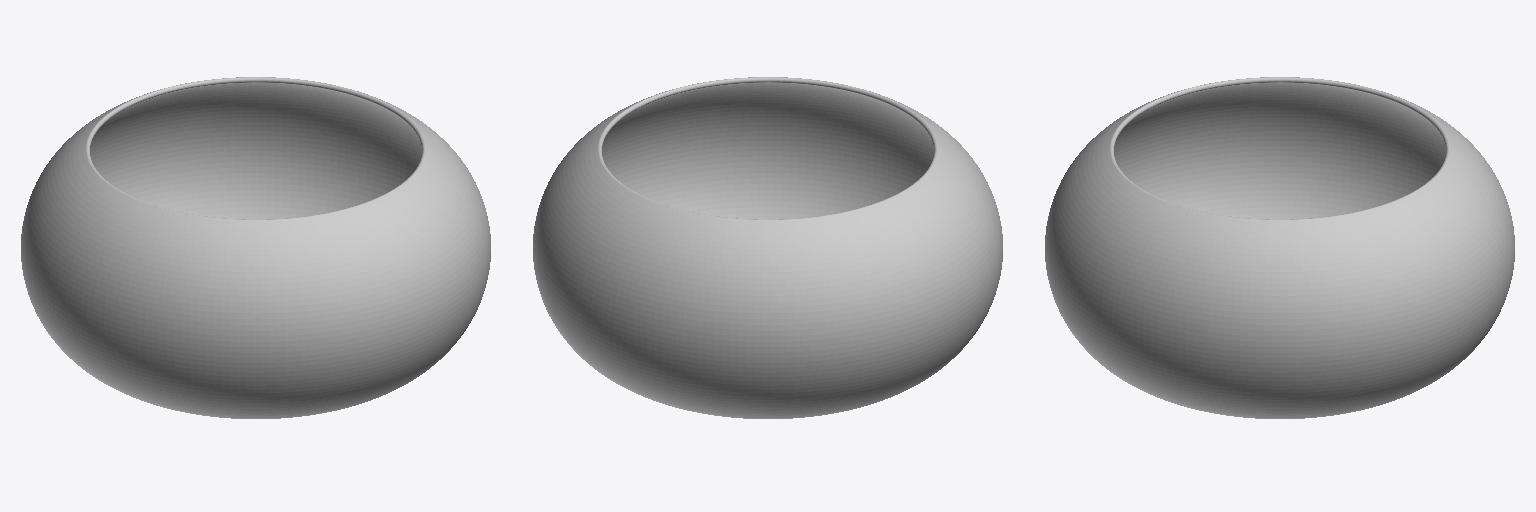
File: qihe.obj
3 views of the same model, side by side, from view 1: azimuth 30°, elevation 25°; view 2: azimuth 150°, elevation 25°; view 3: azimuth 270°, elevation 25° (orthographic).
Parts seen in each view (by area): view 1: Go_Bowl; view 2: Go_Bowl; view 3: Go_Bowl.
Boxes of the visible parts, x1,y1,x2,y2 form: Go_Bowl: [21, 77, 490, 418]; Go_Bowl: [533, 77, 1002, 418]; Go_Bowl: [1045, 77, 1514, 418].
Bounding box in the file's own units: 170 × 85.66 × 170.